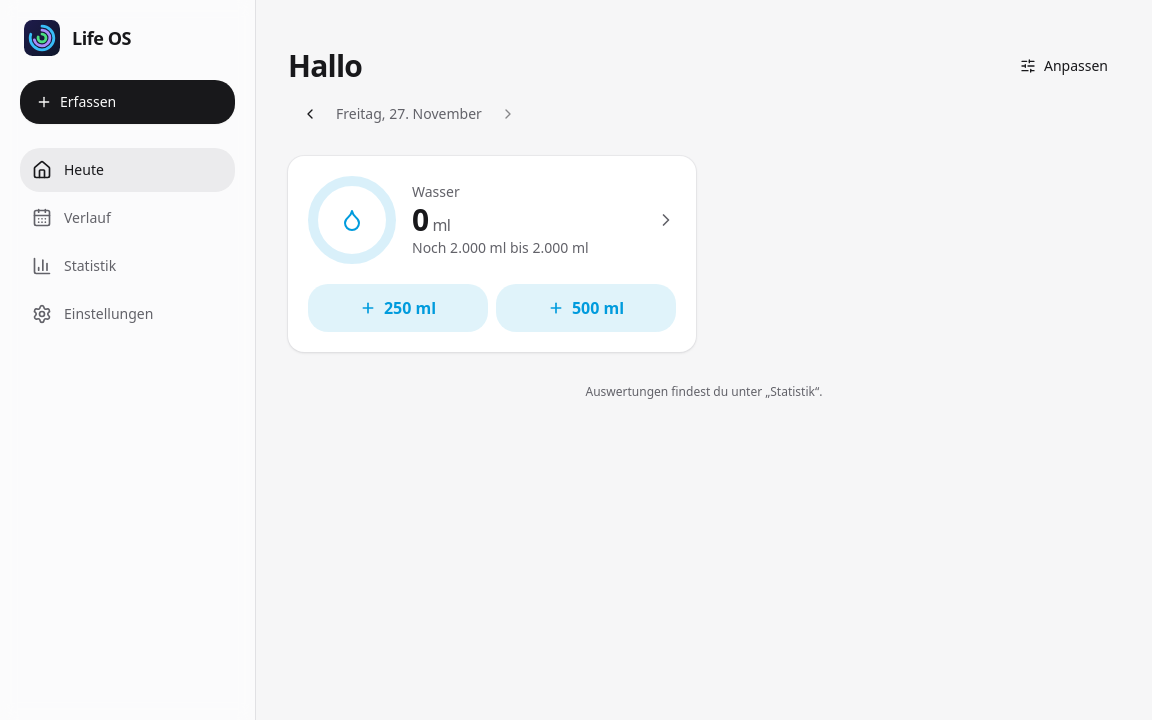
Test: dashboard with water widget › rolls back and reports when saving fails
Click the button with aria-label "500 ml Wasser hinzufügen".
click(586, 308)  # box left=496, top=284, right=676, bottom=332
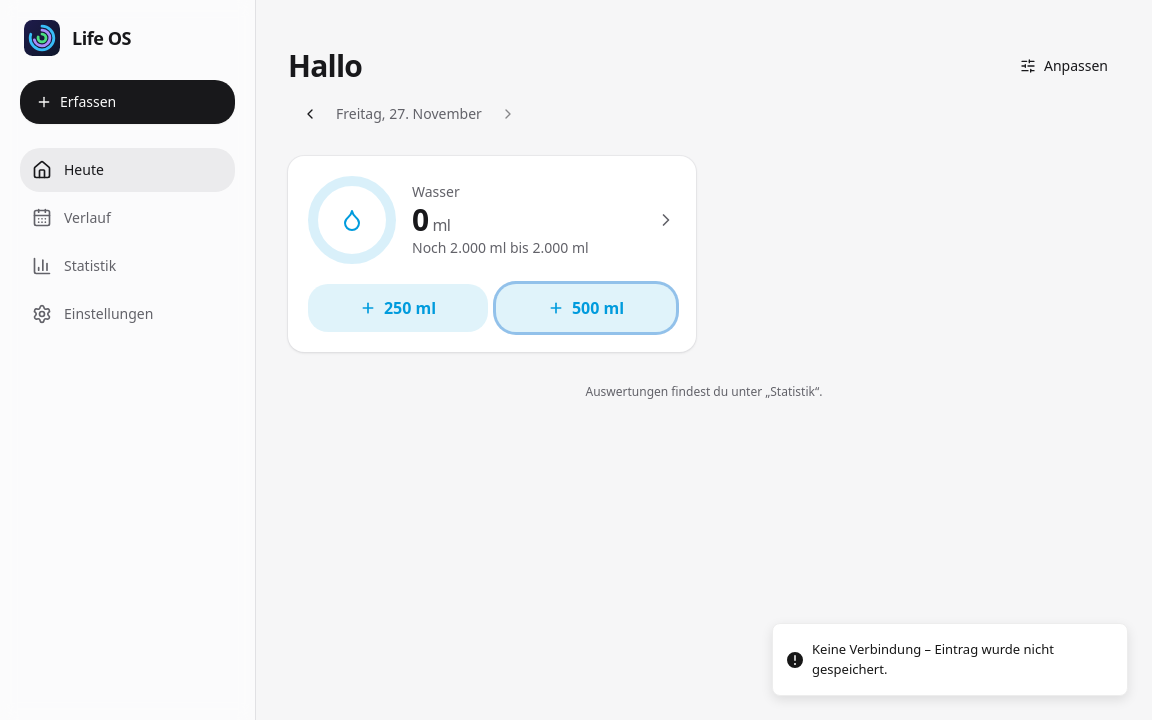
Expected: the text "Noch 2.000 ml bis 2.000 ml" is shown, left=412, top=238, right=589, bottom=257
Expected: the text "Keine Verbindung – Eintrag wurde nicht gespeichert." is shown, left=812, top=640, right=1054, bottom=678
